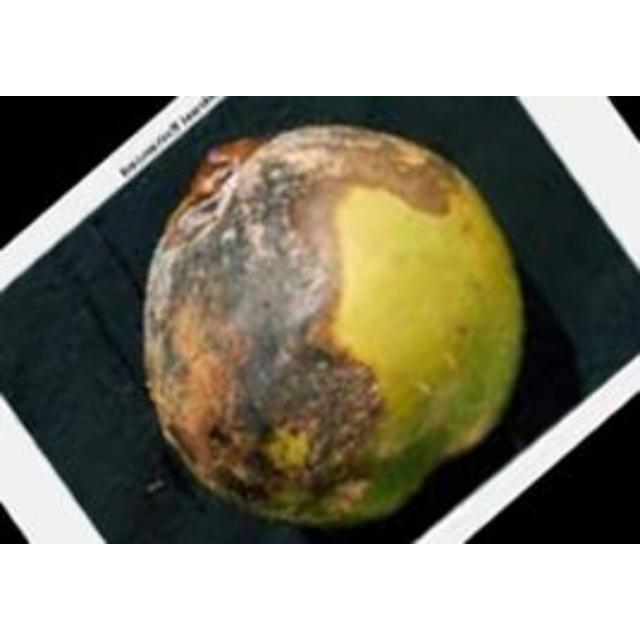damaged: (139, 120, 530, 535)
